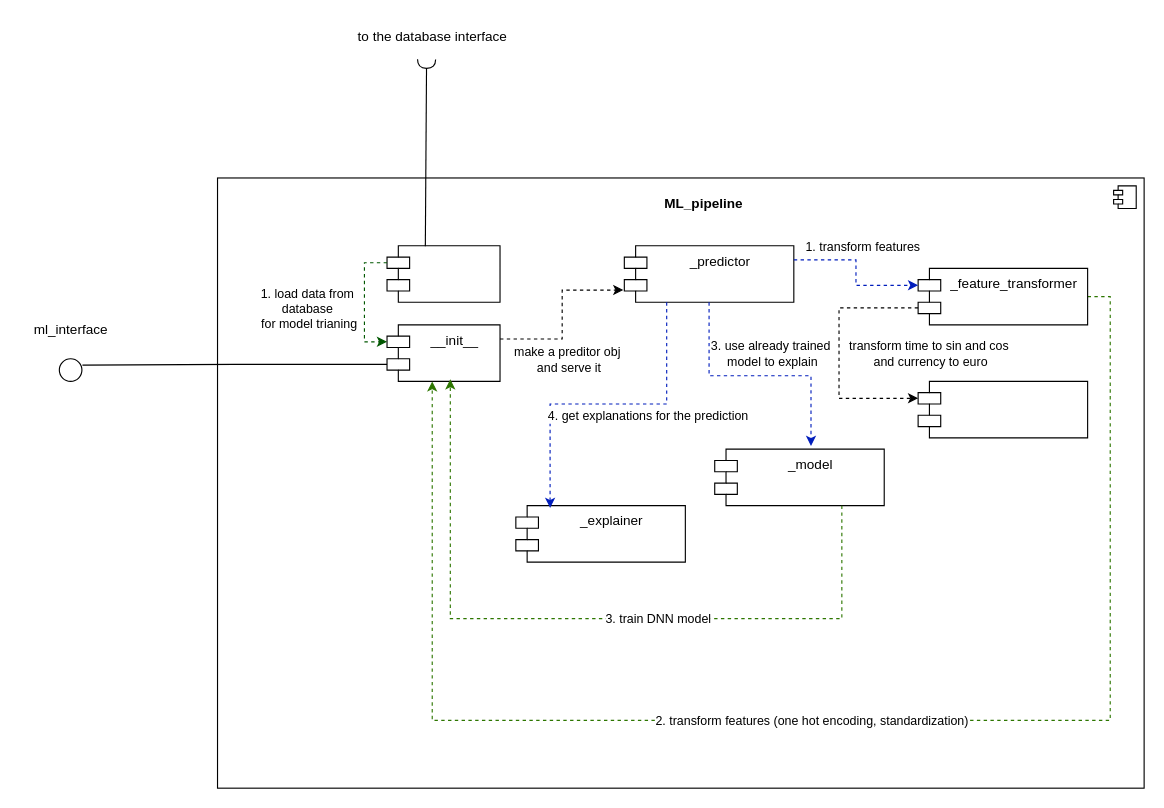
Image size: 1164x808. Some labels were removed from this diagram. Here are the shapes that lost their labels. From the top down, the box of each, then its label:
(386, 245, 500, 302): _data_loader
(917, 380, 1088, 438): added_features
